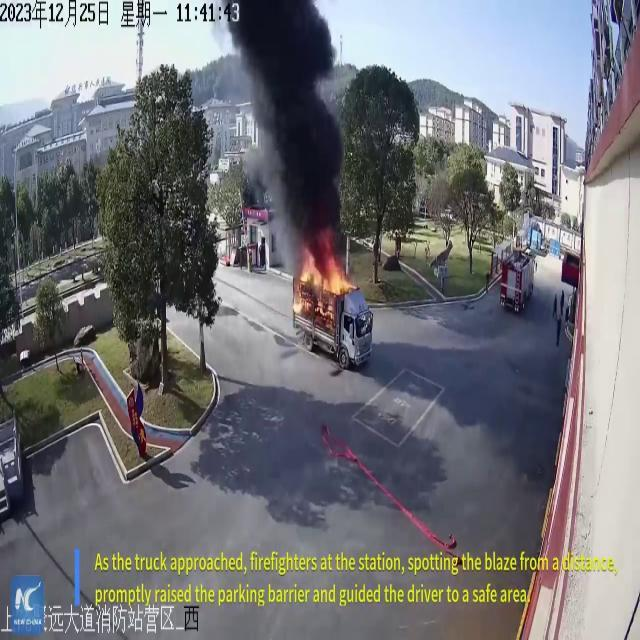Fire: (292, 247, 356, 317)
Smoke: (231, 0, 350, 252)
